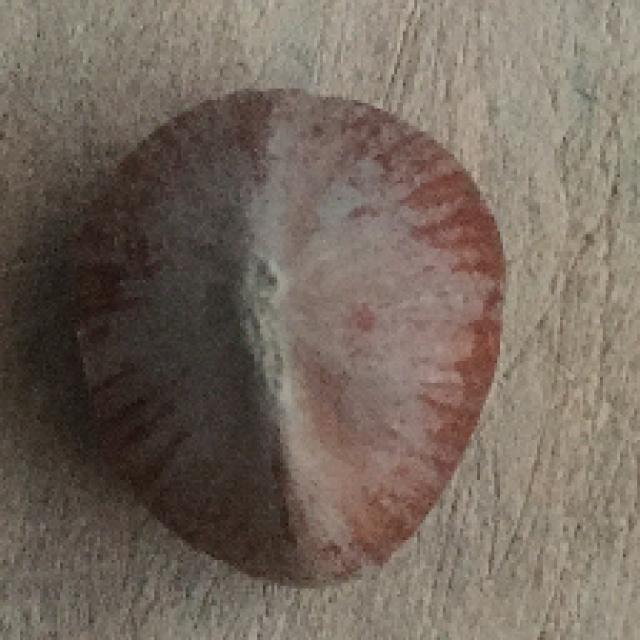qualityHazelnut: (70, 88, 510, 592)
